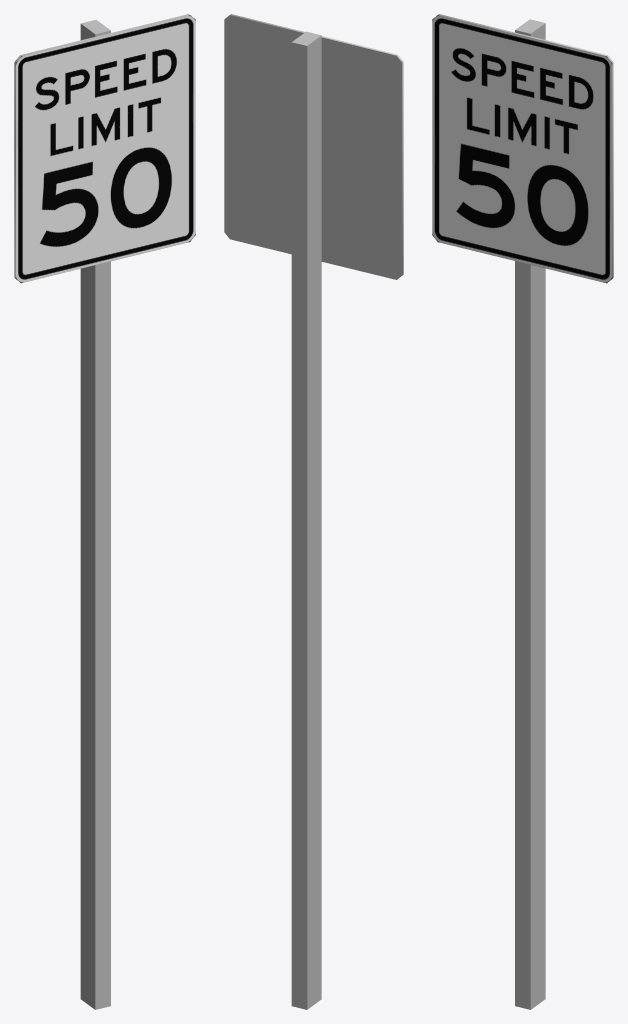
Rendered from SM_warning_sign_03.fbx.
The picture shows the model from 3 angles, left to right: view 1: azimuth 30°, elevation 25°; view 2: azimuth 150°, elevation 25°; view 3: azimuth 330°, elevation 25°; orthographic projection.
Visible parts, largest first — view 1: warning_sign_03; view 2: warning_sign_03; view 3: warning_sign_03.
Boxes of the visible parts, x1,y1,x2,y2 form: warning_sign_03: (14,14,195,1009); warning_sign_03: (224,14,403,1009); warning_sign_03: (432,14,613,1009).
Bounding box in the file's own units: 56.24 × 291 × 8.86.
